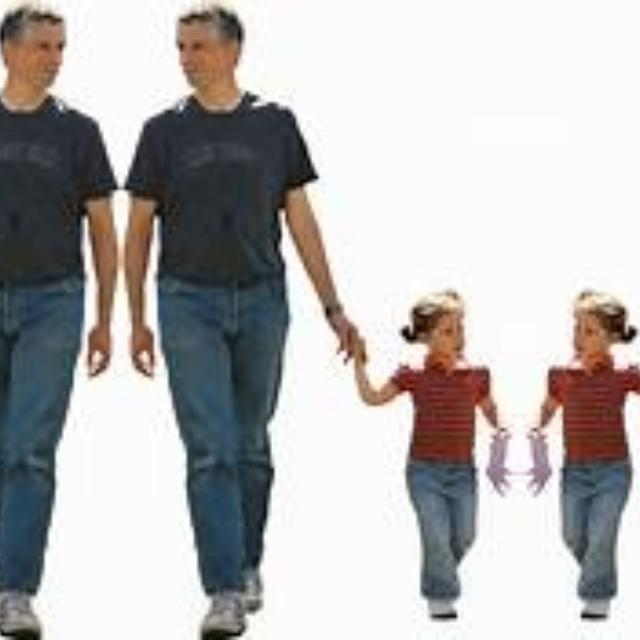person: (130, 1, 328, 632), (0, 0, 110, 631), (369, 258, 518, 626), (518, 258, 640, 625)
